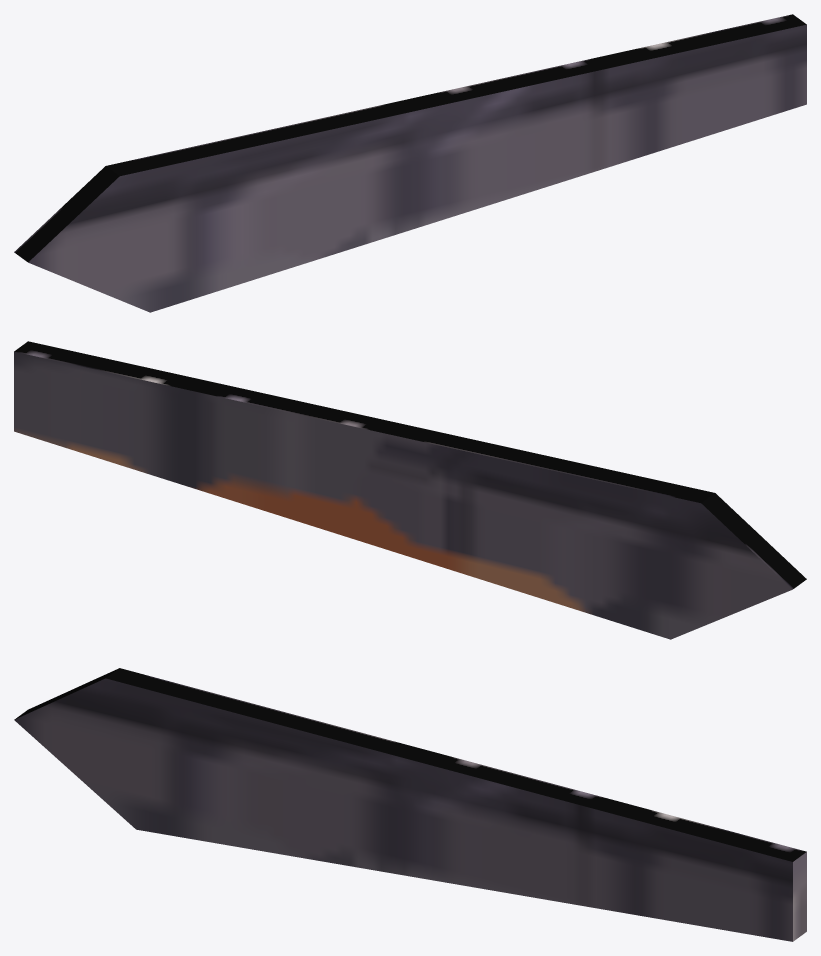
Rendered from rifle_selector.fbx.
3 views of the same model, one above another, from view 1: azimuth 30°, elevation 25°; view 2: azimuth 150°, elevation 25°; view 3: azimuth 330°, elevation 25° (orthographic).
Parts seen in each view (by area): view 1: rifle_selector; view 2: rifle_selector; view 3: rifle_selector.
Part boxes in pixels (x1,y1,x2,y2): rifle_selector: (14,14,806,312); rifle_selector: (14,341,806,639); rifle_selector: (14,668,806,941).
Size of the model in its own units: 0.3825 by 0.0675 by 0.012.
